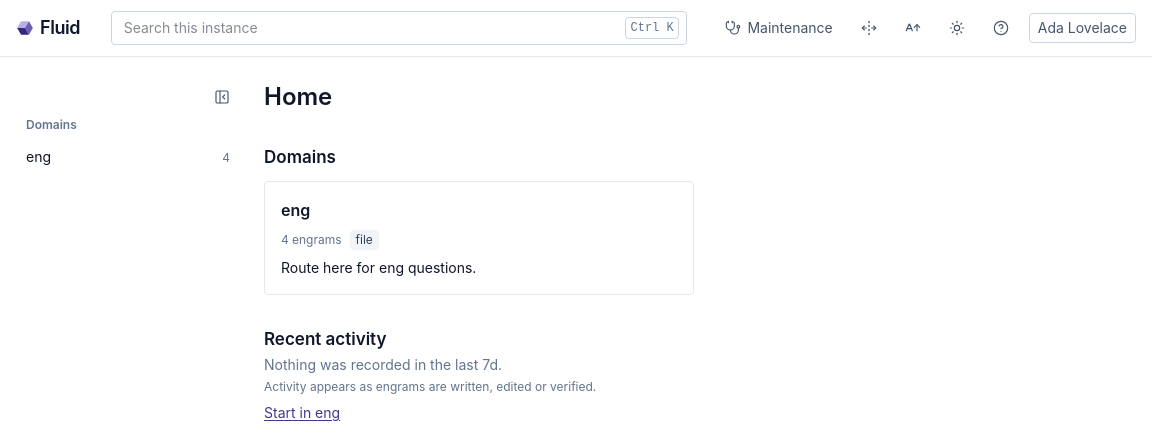
Test: the layout › offers no accounts row to a session that may not administer
Expected: the heading "Home" is shown, [264,82,332,111]
Click the button "Ada Lovelace" at (1082, 28), box [1029,13,1136,43]
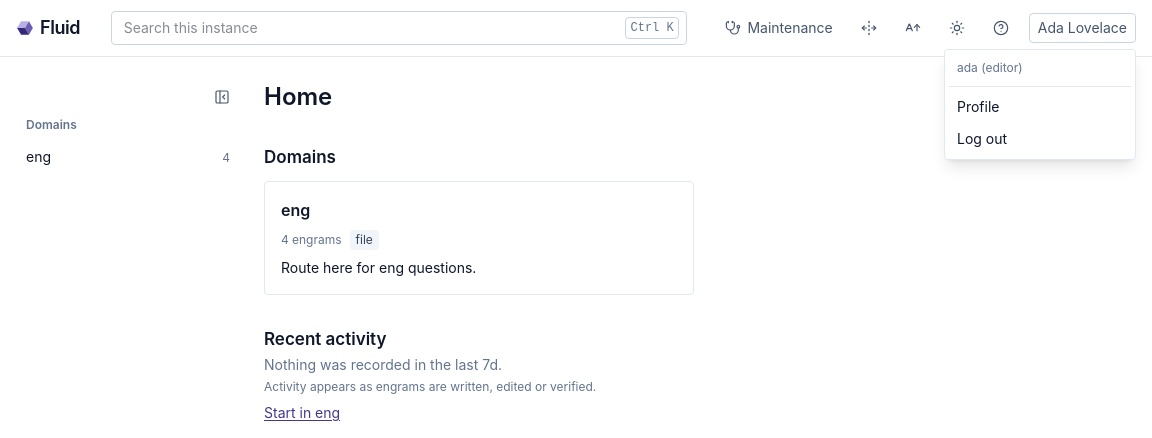
Result: the text "ada (editor)" is shown at [957,60,1023,75]
Result: the menu item "Log out" is shown at [957,130,1007,147]
